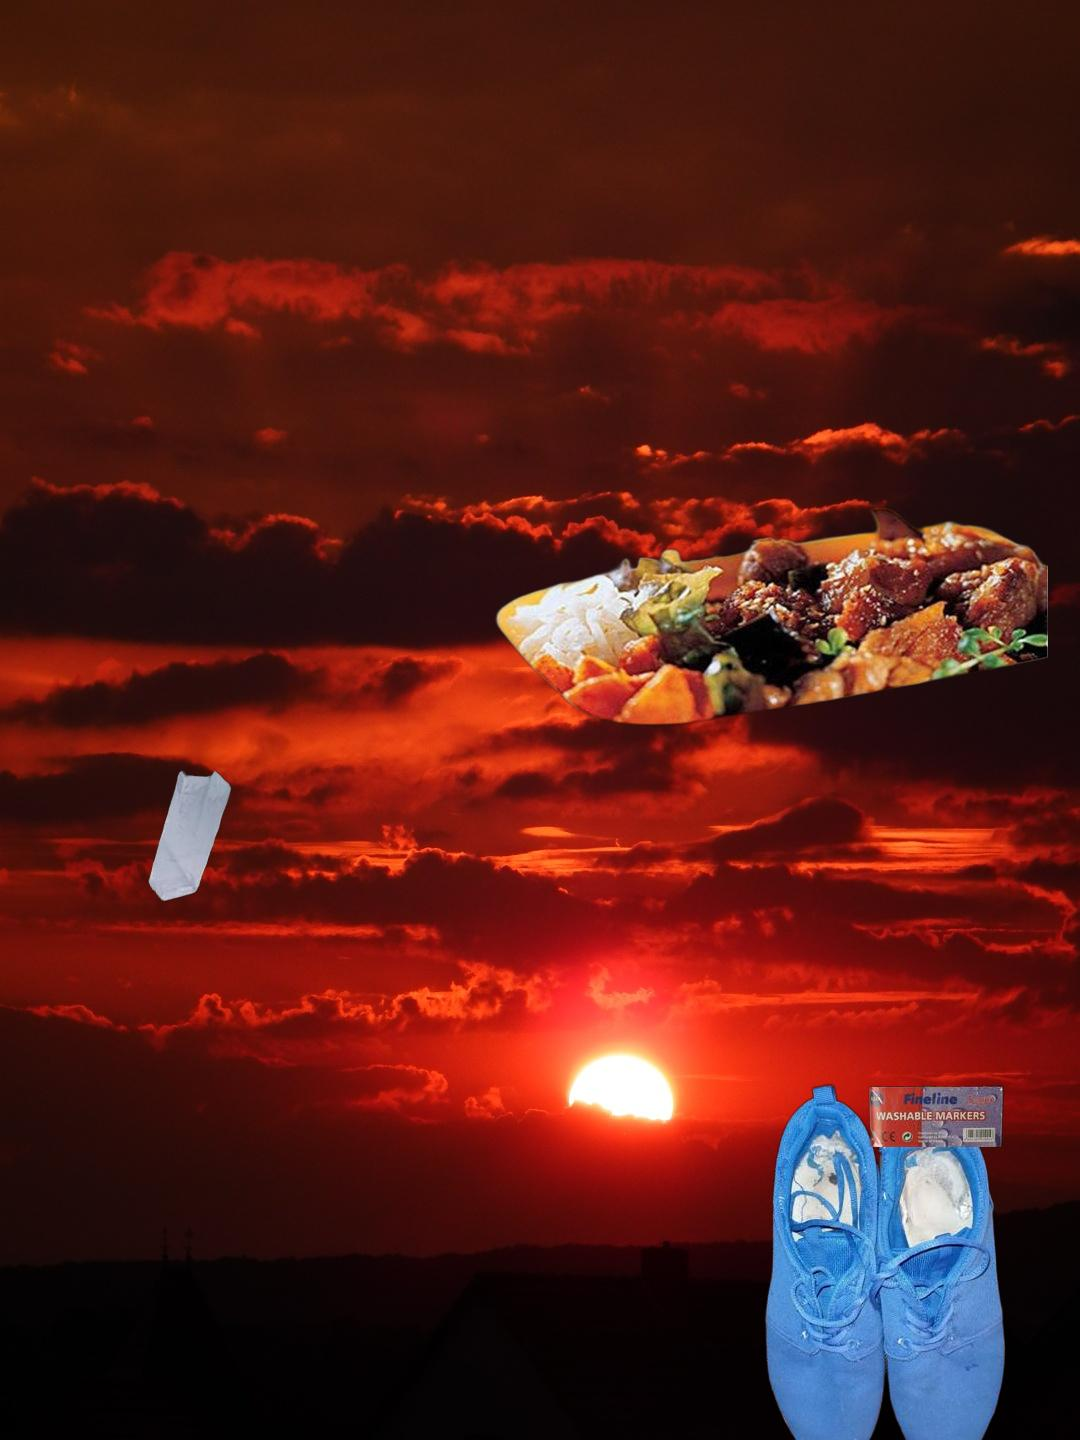biological: (491, 503, 1048, 729)
penholder: (859, 968, 1009, 1147), (686, 554, 816, 651)
plastic-bag: (146, 766, 234, 904)
shoes: (761, 1079, 1009, 1440)
